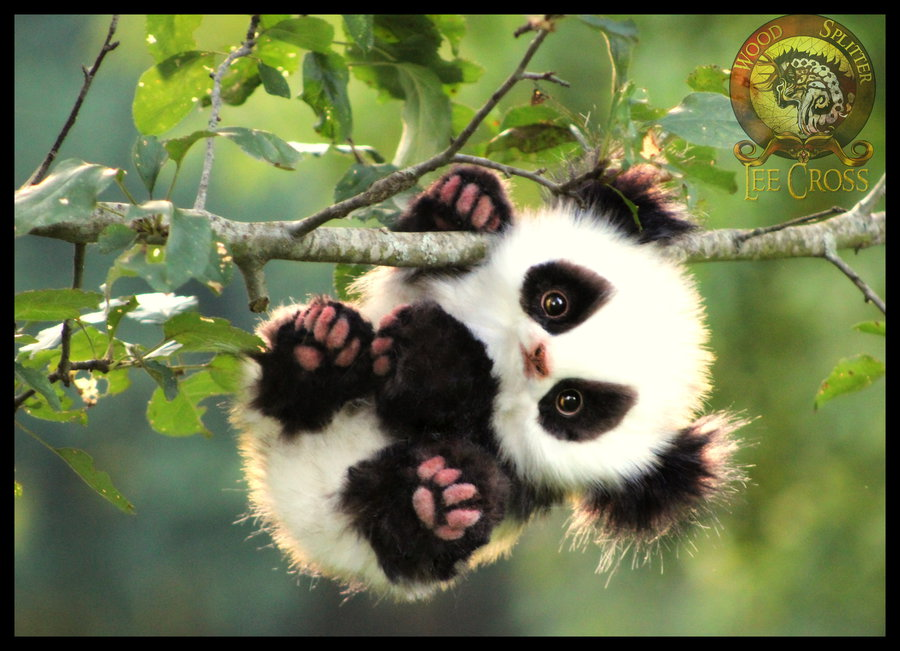panda: (206, 164, 744, 586)
